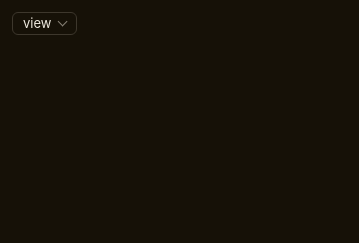
Test: VerbPicker › Escape closes without a change
Click the button with aria-label "x": (45,23) x1=12 y1=12 x2=78 y2=35
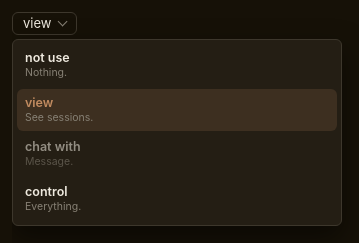
Press Escape in the button with aria-label "x", box x1=12 y1=12 x2=78 y2=35
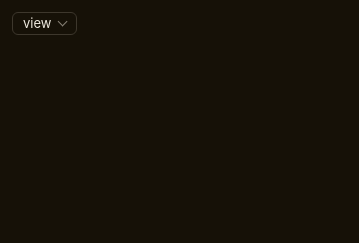
Now the list is gone
